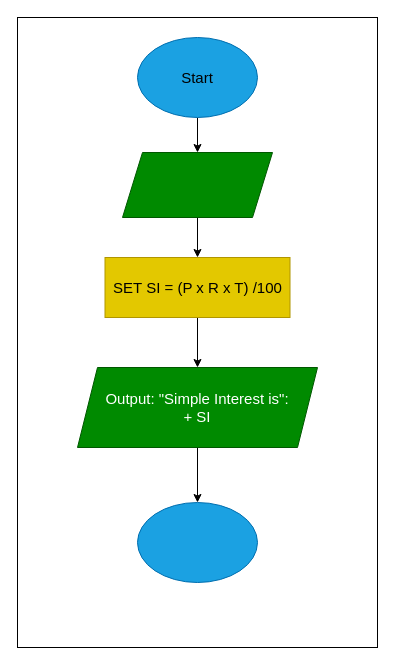
Image size: 395x665. Some labels were removed from this diagram. Here are the shapes that lost their labels. From the top down, the centre of each, then its label:
At (x=197, y=185): "Input P, R, T".
At (x=197, y=542): "End".
